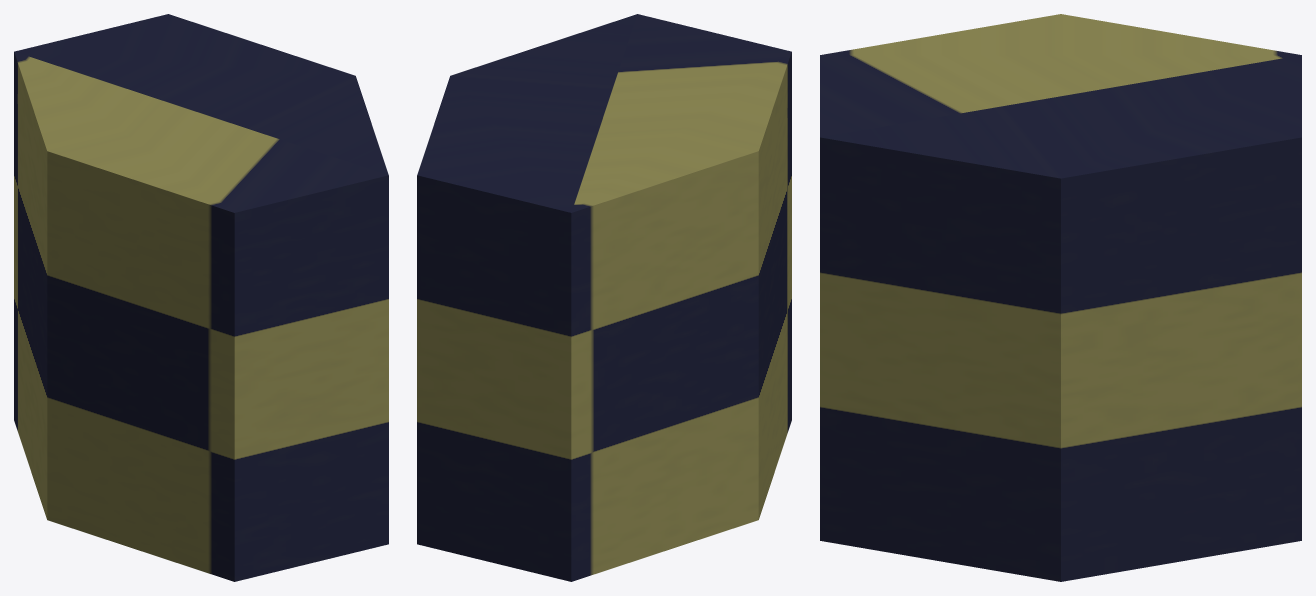
3 renders of one model, left to right at view 1: azimuth 30°, elevation 25°; view 2: azimuth 150°, elevation 25°; view 3: azimuth 270°, elevation 25°, orthographic. The views are drawn at different scales.
Visible parts, largest first — view 1: geometry_0; view 2: geometry_0; view 3: geometry_0.
Part boxes in pixels (box(x1,y1,x2,y2)): geometry_0: box(14, 14, 388, 581); geometry_0: box(417, 14, 791, 581); geometry_0: box(820, 14, 1301, 581).
Size of the model in its own units: 1.54 by 1.76 by 1.91.
Materials: 1 (1 with a texture image).
